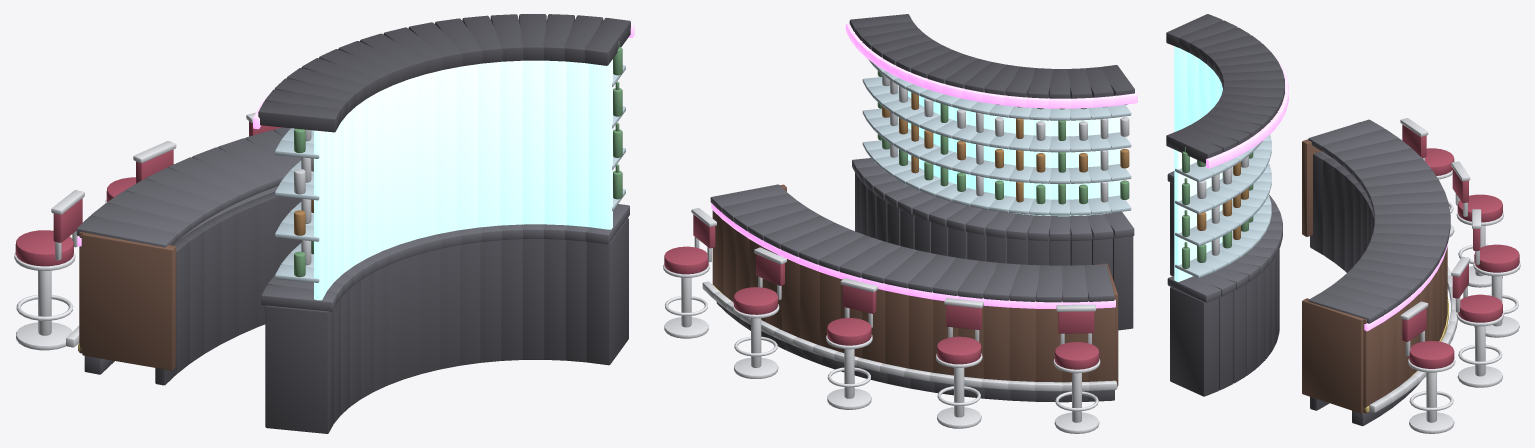
File: th14_casinobar.glb
3 renders of one model, left to right at view 1: azimuth 30°, elevation 25°; view 2: azimuth 150°, elevation 25°; view 3: azimuth 270°, elevation 25°, orthographic. The views are drawn at different scales.
Visible parts, largest first — view 1: Cube.153, Cube.170, Cube.154, Cube.188, Cube.191, Cube.192, Cube.189, Cube.190, Cube.193, Cube.194, Cube.195, Cube.196 (+63 smaller); view 2: Cube.034, Cube.033, Cube.030, Cube.029, Cube.170, Cube.035, Cube.037, Cube.025, Cube.024, Cube.026, Cube.028, Cylinder.115 (+94 smaller); view 3: Cube.152, Cube.154, Cube.019, Cube.155, Cube.188, Cube.112, Cube.156, Cube.204, Cube.020, Cube.111, Cylinder.099, Cube.153 (+72 smaller).
Part boxes in pixels (<box>): Cube.153: <box>82,232,176,370</box>; Cube.170: <box>265,305,334,433</box>; Cube.154: <box>586,218,628,365</box>; Cube.188: <box>588,59,612,229</box>; Cube.191: <box>522,60,544,224</box>; Cube.192: <box>500,60,522,225</box>; Cube.189: <box>566,61,588,226</box>; Cube.190: <box>544,60,566,225</box>; Cube.193: <box>478,62,500,227</box>; Cube.194: <box>457,64,478,230</box>; Cube.195: <box>437,67,457,234</box>; Cube.196: <box>417,71,436,238</box>; Cube.034: <box>1009,300,1035,381</box>; Cube.033: <box>983,306,1009,380</box>; Cube.030: <box>909,295,933,372</box>; Cube.029: <box>885,290,908,368</box>; Cube.170: <box>1113,236,1133,330</box>; Cube.035: <box>1036,298,1062,382</box>; Cube.037: <box>1088,294,1115,381</box>; Cube.025: <box>800,265,819,345</box>; Cube.024: <box>782,259,800,337</box>; Cube.026: <box>820,272,840,351</box>; Cube.028: <box>862,289,885,363</box>; Cylinder.115: <box>1054,342,1099,369</box>; Cube.152: <box>1302,298,1363,413</box>; Cube.154: <box>1170,287,1218,396</box>; Cube.019: <box>1363,319,1382,413</box>; Cube.155: <box>1219,291,1233,390</box>; Cube.188: <box>1174,150,1191,281</box>; Cube.112: <box>1323,158,1340,262</box>; Cube.156: <box>1233,284,1245,383</box>; Cube.204: <box>1174,46,1187,131</box>; Cube.020: <box>1382,313,1396,396</box>; Cube.111: <box>1334,166,1350,270</box>; Cylinder.099: <box>1409,341,1454,368</box>; Cube.153: <box>1302,122,1359,236</box>.
Size of the model in its own units: 4.56 by 2.45 by 3.21.
